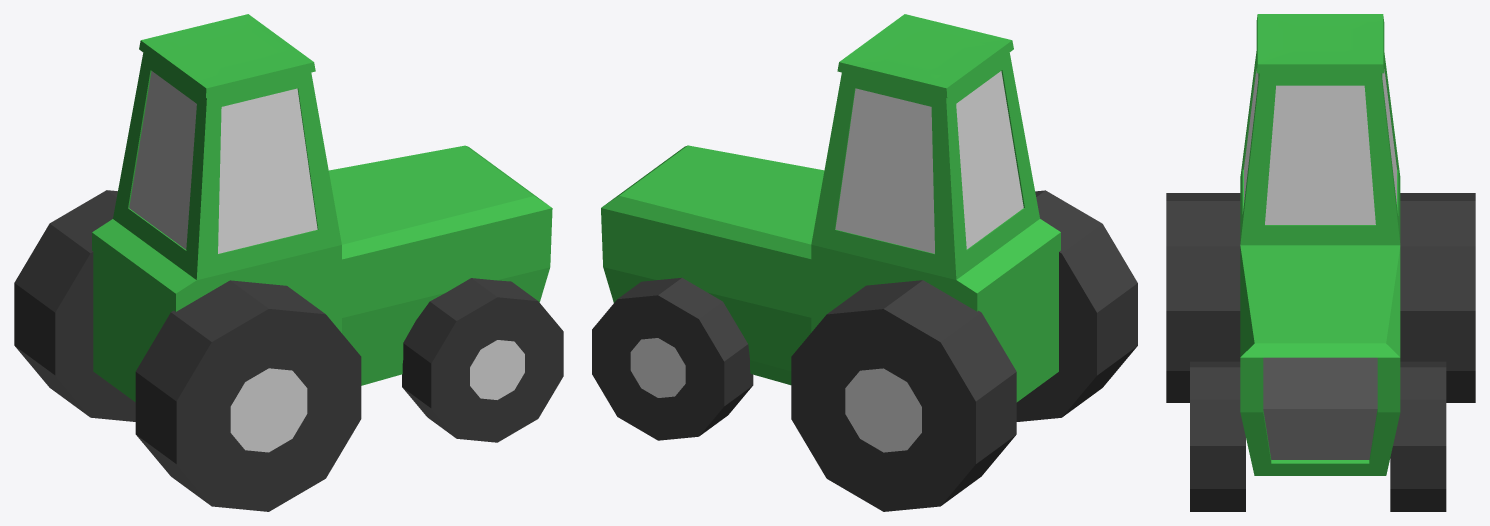
File: trator.fbx
The picture shows the model from 3 angles, left to right: view 1: azimuth 30°, elevation 25°; view 2: azimuth 150°, elevation 25°; view 3: azimuth 270°, elevation 25°; orthographic projection. The views are drawn at different scales.
Parts seen in each view (by area): view 1: trator; view 2: trator; view 3: trator.
Boxes of the visible parts, x1,y1,x2,y2 form: trator: [14, 14, 563, 511]; trator: [592, 14, 1137, 511]; trator: [1166, 14, 1475, 511].
Bounding box in the file's own units: 275 × 249 × 187.
